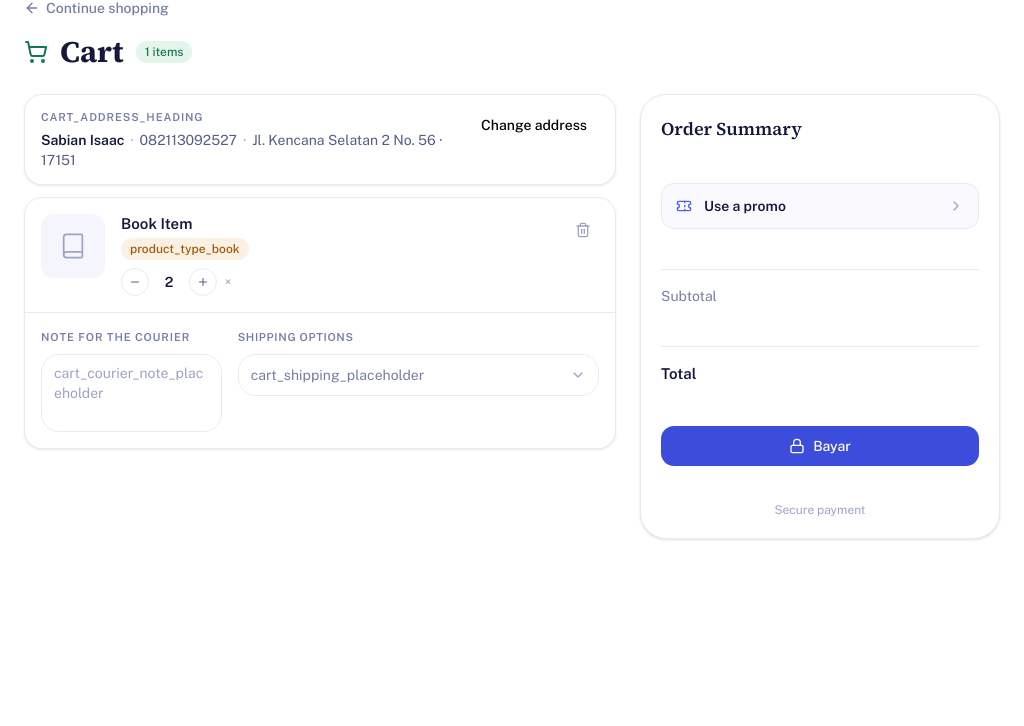
Test: CartPage with Shipping › stale shipping quote guard (#97) › clears the shippingClearedNotice once the buyer re-runs the shipping check
Click the button "Change address" at (534,125), box [469,109,599,141]
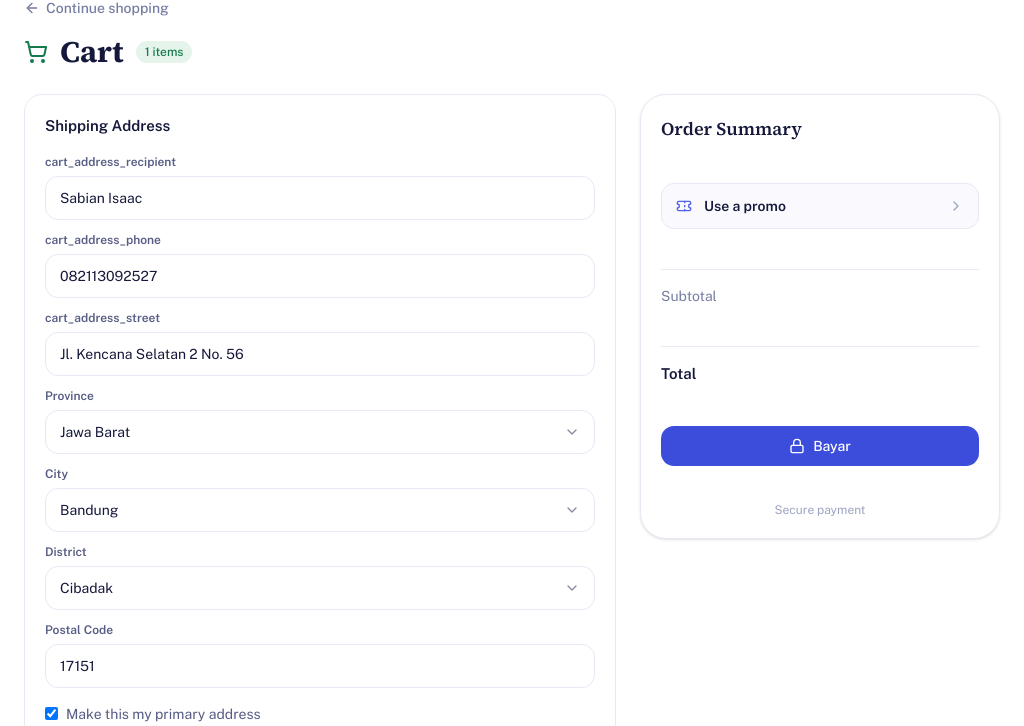
Replace the text in the field labelled "Postal Code" with "40999" at (320,666), box [45,644,595,688]
(page scrolled)
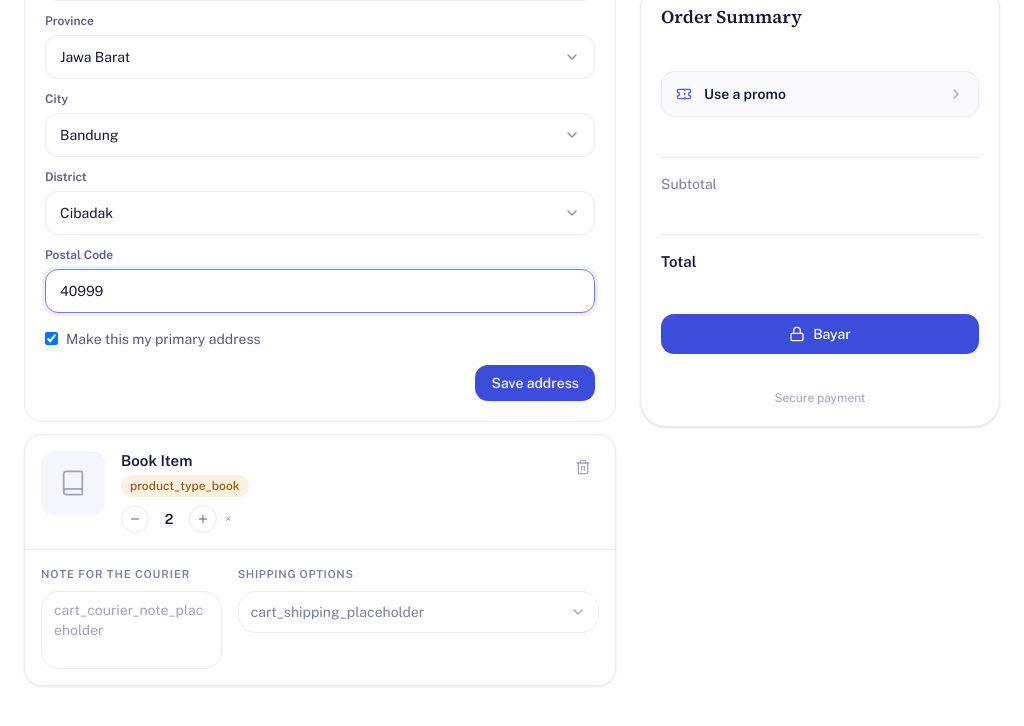
Click the button "Save address" at (535,382), box [476,364,595,400]
(page scrolled)
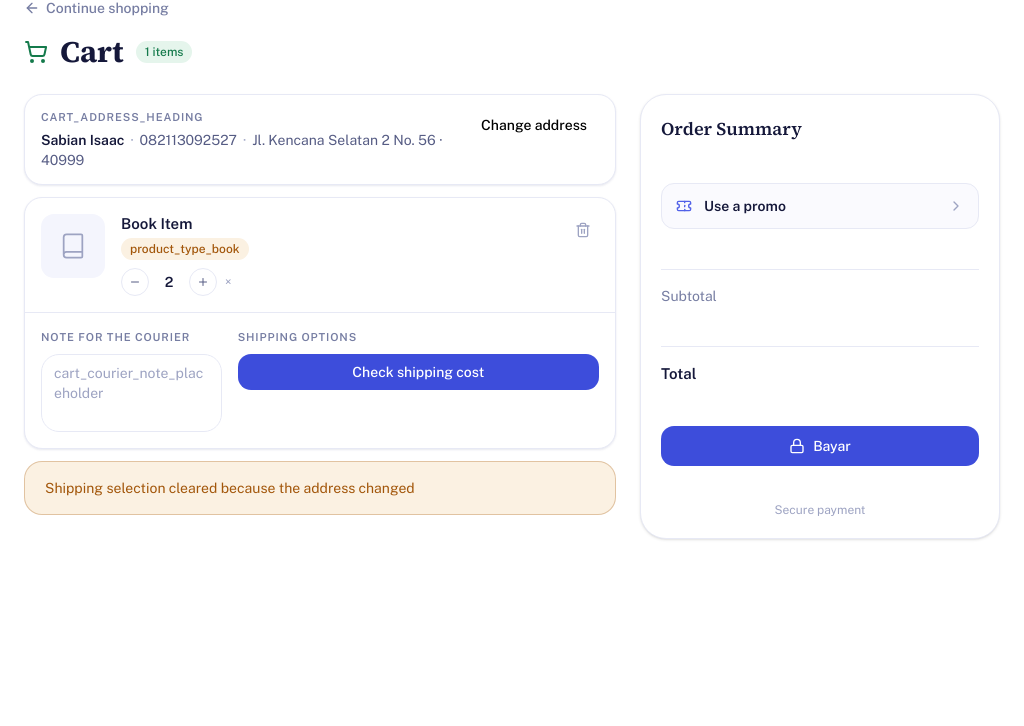
Now the text "Shipping selection cleared because the address changed" is shown, box [24,461,616,515]
Click the button "Check shipping cost" at (418,372), box [238,354,599,390]
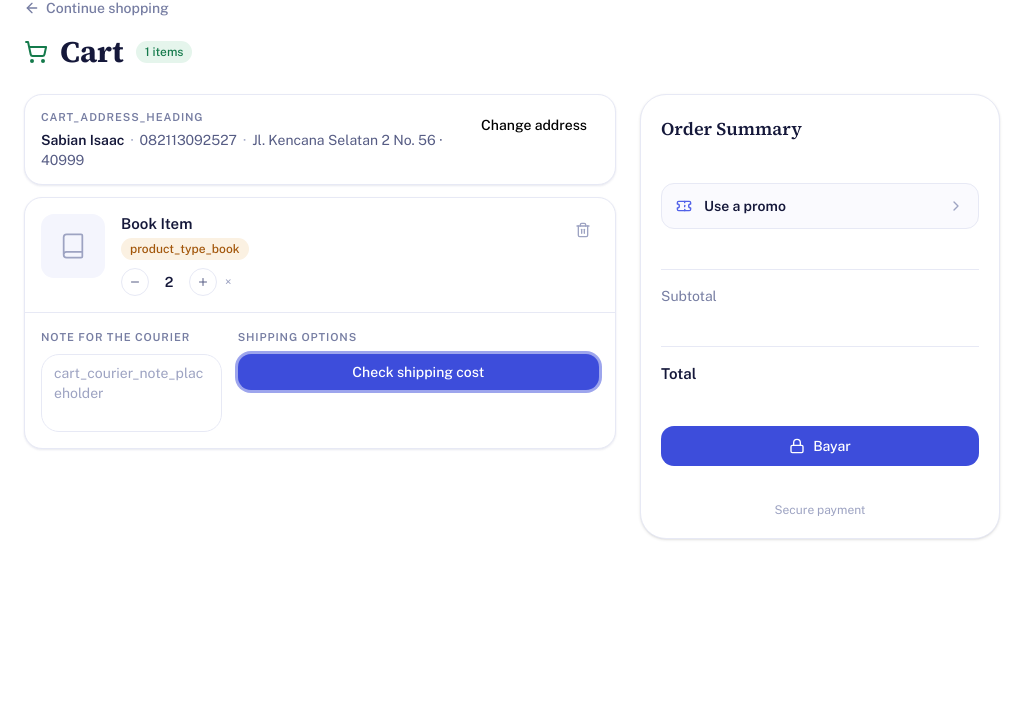
Now the text "Shipping selection cleared because the address changed" is gone
